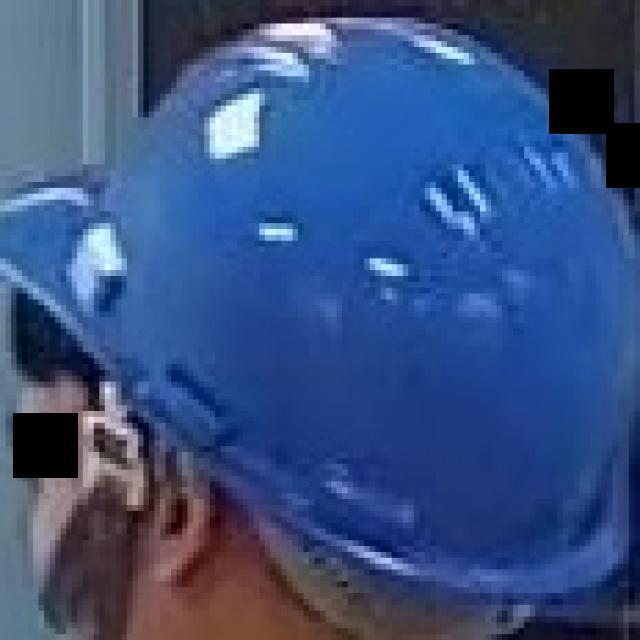blue helmet: (16, 18, 640, 583)
